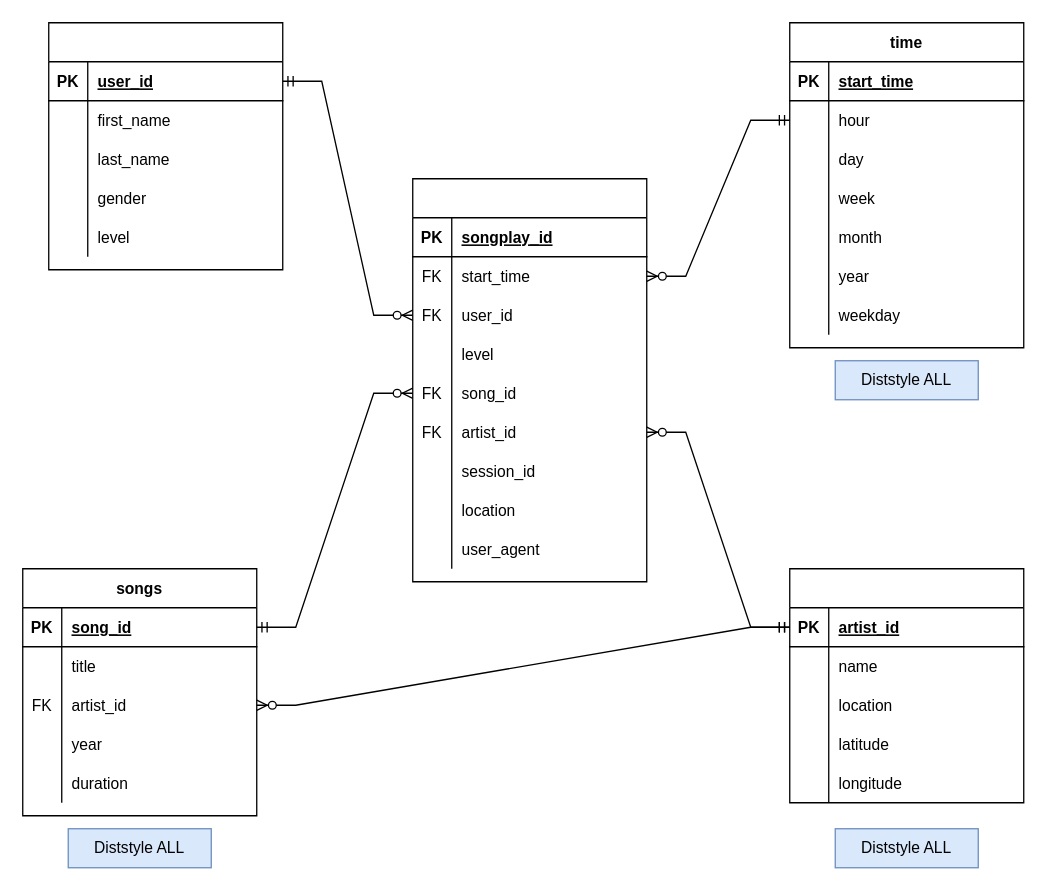
Some shapes in this 1047 by 890 pixel diagram are drawn without their labels. The shapes that lost their labels are listed below. From the top down, each one's box as (x1, y1, x2, y2) in pixels, then its label:
(47, 21, 283, 270): users
(411, 177, 647, 582): songplays
(788, 567, 1024, 803): artists
